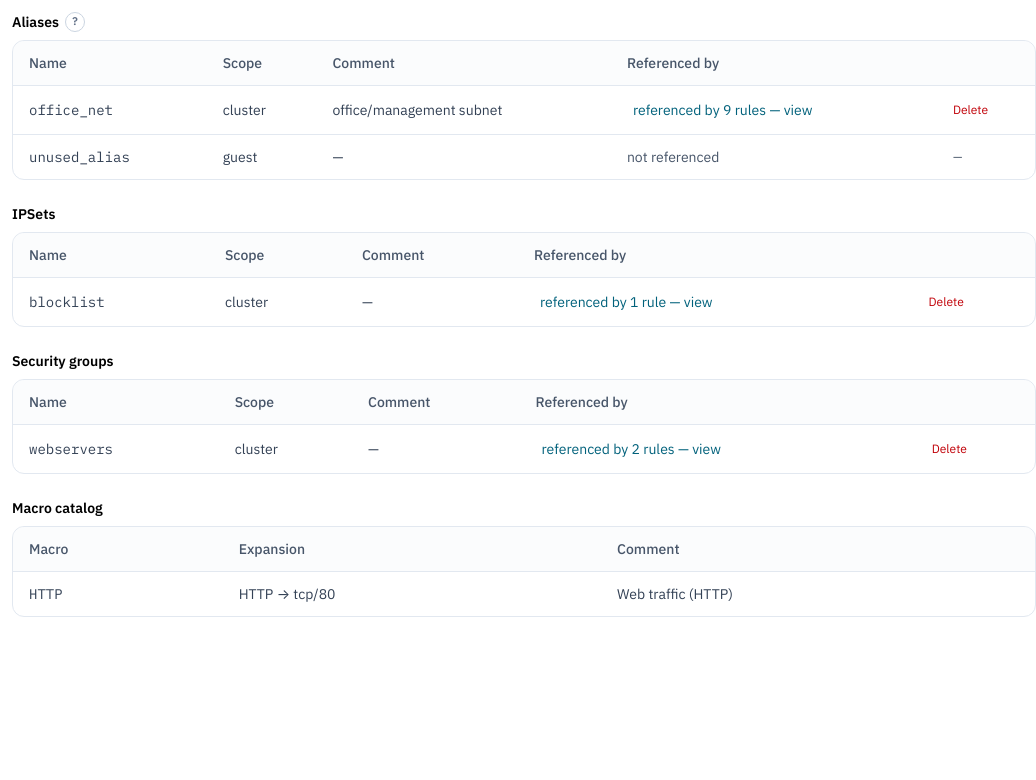
it: ObjectsPanel usage-guarded delete (acceptance criterion 2) › blocks deleting an alias referenced by rules — no changeset op is staged
# office_net (cluster scope, count 9) is the first cluster-scope alias row.
Click the button "Delete" in the row of "office_net": (971, 110) [953,102,988,118]
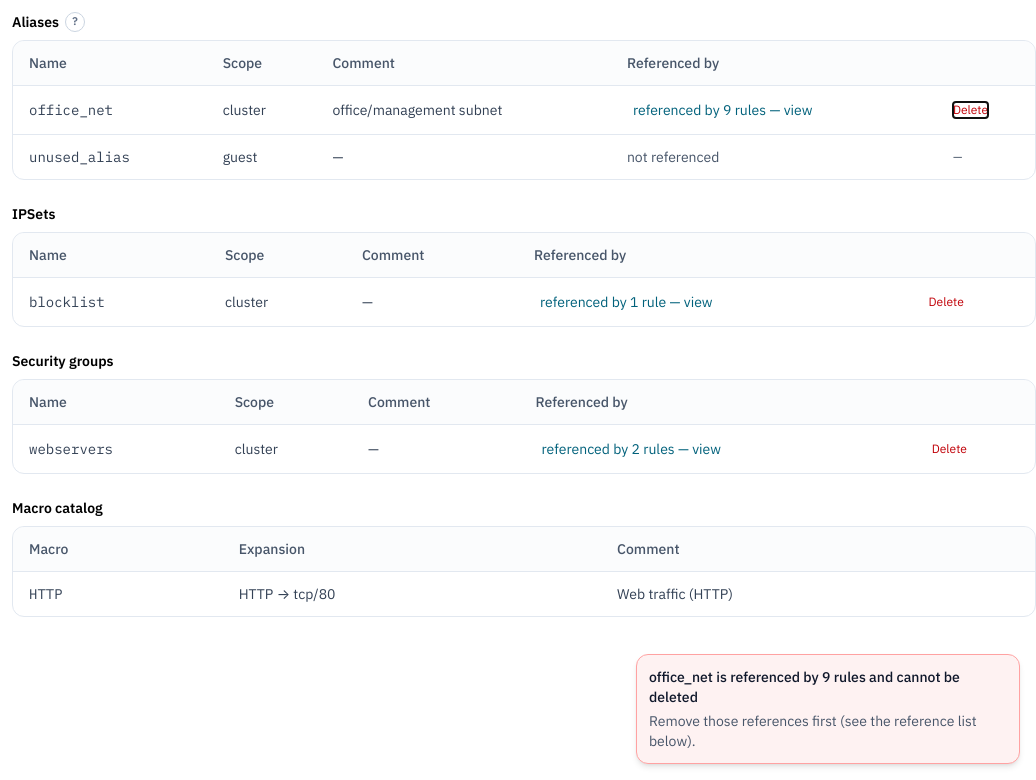
Now the text "office_net is referenced by 9 rules and cannot be deleted" is shown, box [649,667,1007,707]
